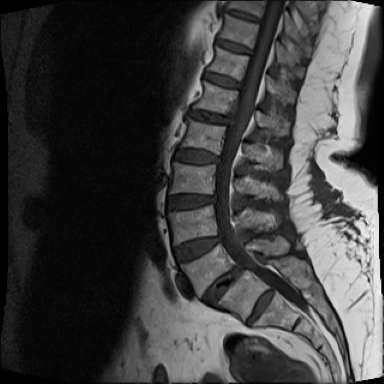Degenerative Disc Disease (DDD): (187, 101, 238, 130), (198, 64, 243, 92), (215, 33, 255, 58), (222, 4, 264, 25)
Lumbar Disc Bulge (LDB): (165, 220, 234, 267), (197, 254, 255, 309), (152, 183, 226, 214), (168, 143, 223, 170)
Spinal Stenosis (SS): (223, 105, 244, 132), (210, 224, 227, 251)
Spondylolisthesis: (213, 257, 265, 294)
